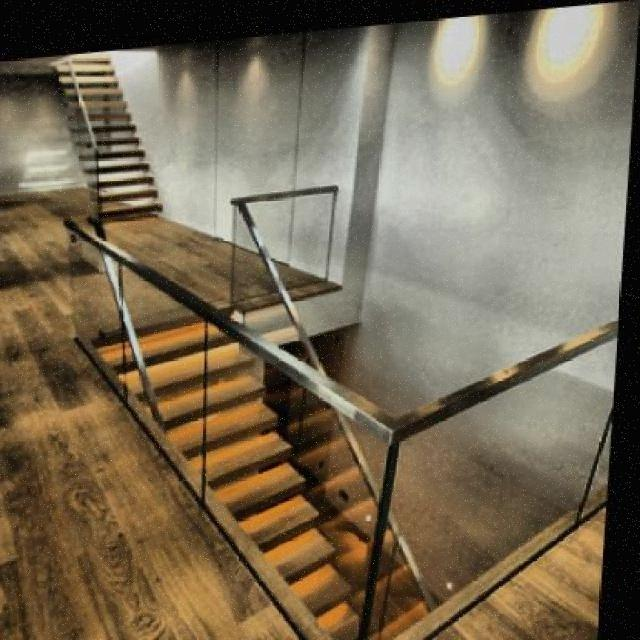stair: (52, 37, 172, 212)
